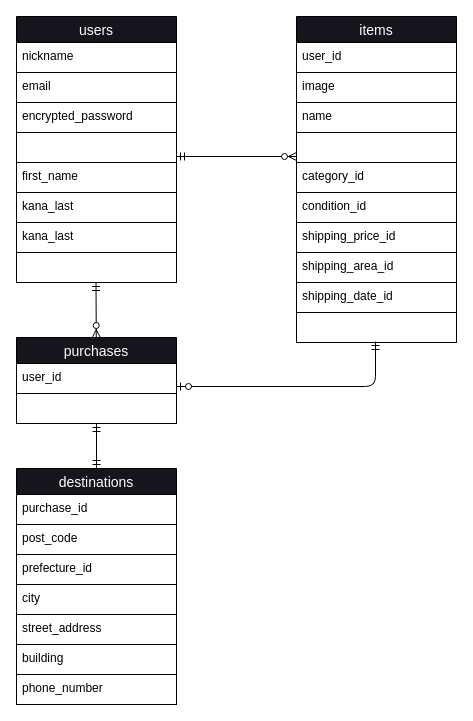
Image size: 473x721. Some labels were removed from this diagram. The shapes that lost their labels are listed below. From the top down, each one's centre as x and y in pixels, then its label:
the point at 96,147: last_name
the point at 376,147: explanation
the point at 96,267: birthday
the point at 376,327: price
the point at 96,408: item_id
